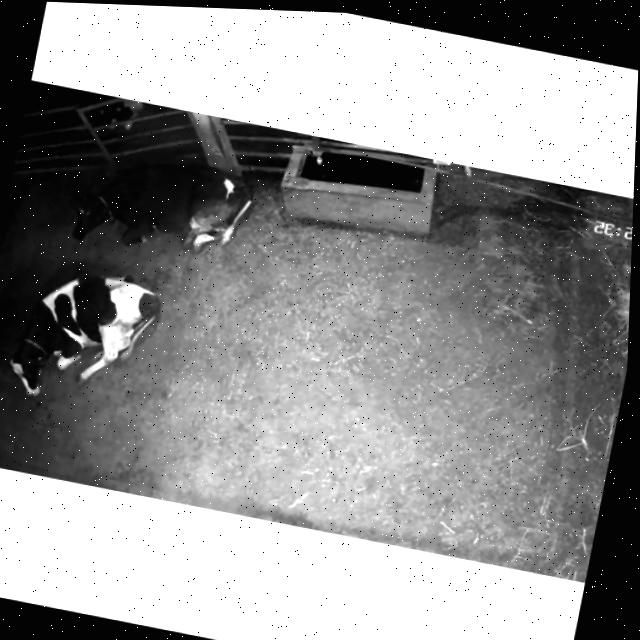lay: (0, 248, 185, 429), (49, 130, 259, 286)
